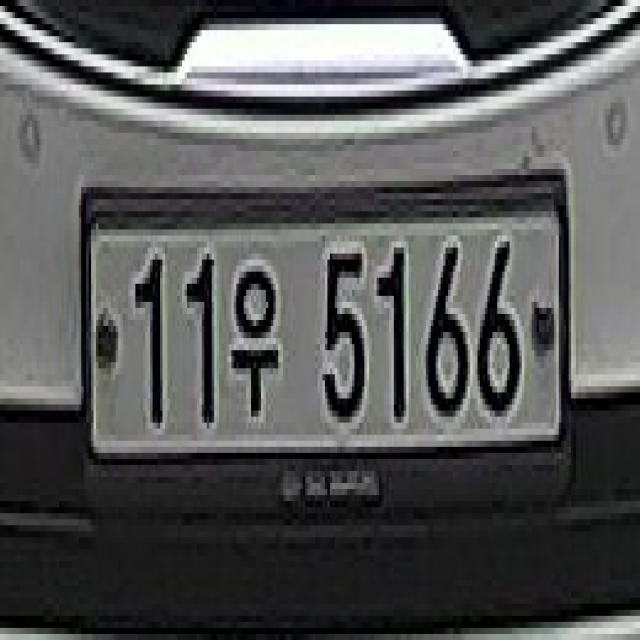1: (123, 229, 182, 453), (367, 235, 421, 459), (175, 217, 224, 459)
5: (315, 235, 374, 441)
6: (416, 217, 478, 459), (472, 223, 532, 453)
license_plate: (76, 169, 576, 477)
u: (219, 229, 293, 459)
